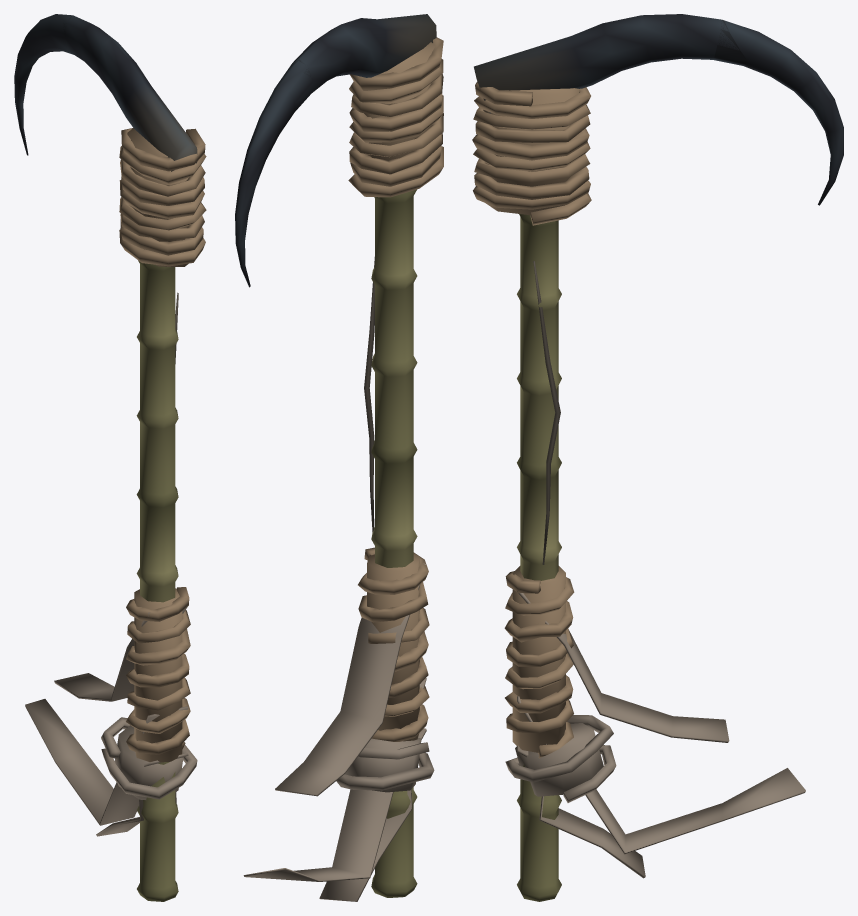
Rendered from wpn_naga_talon_hook.glb.
The picture shows the model from 3 angles, left to right: view 1: azimuth 30°, elevation 25°; view 2: azimuth 150°, elevation 25°; view 3: azimuth 270°, elevation 25°; orthographic projection. The views are drawn at different scales.
Parts seen in each view (by area): view 1: wpn_naga_talon_hook, wpn_naga_talon_hook_worn; view 2: wpn_naga_talon_hook, wpn_naga_talon_hook_worn; view 3: wpn_naga_talon_hook, wpn_naga_talon_hook_worn.
Part boxes in pixels (x1,y1,x2,y2): wpn_naga_talon_hook: (14, 14, 206, 901); wpn_naga_talon_hook_worn: (25, 15, 197, 836); wpn_naga_talon_hook: (235, 14, 443, 897); wpn_naga_talon_hook_worn: (243, 59, 434, 901); wpn_naga_talon_hook: (472, 14, 843, 901); wpn_naga_talon_hook_worn: (505, 19, 805, 878).
Size of what is drawn, in the model's own units: 0.0516 by 0.5233 by 0.1997.
